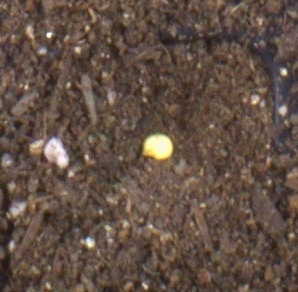chilli seed: (141, 133, 174, 160)
